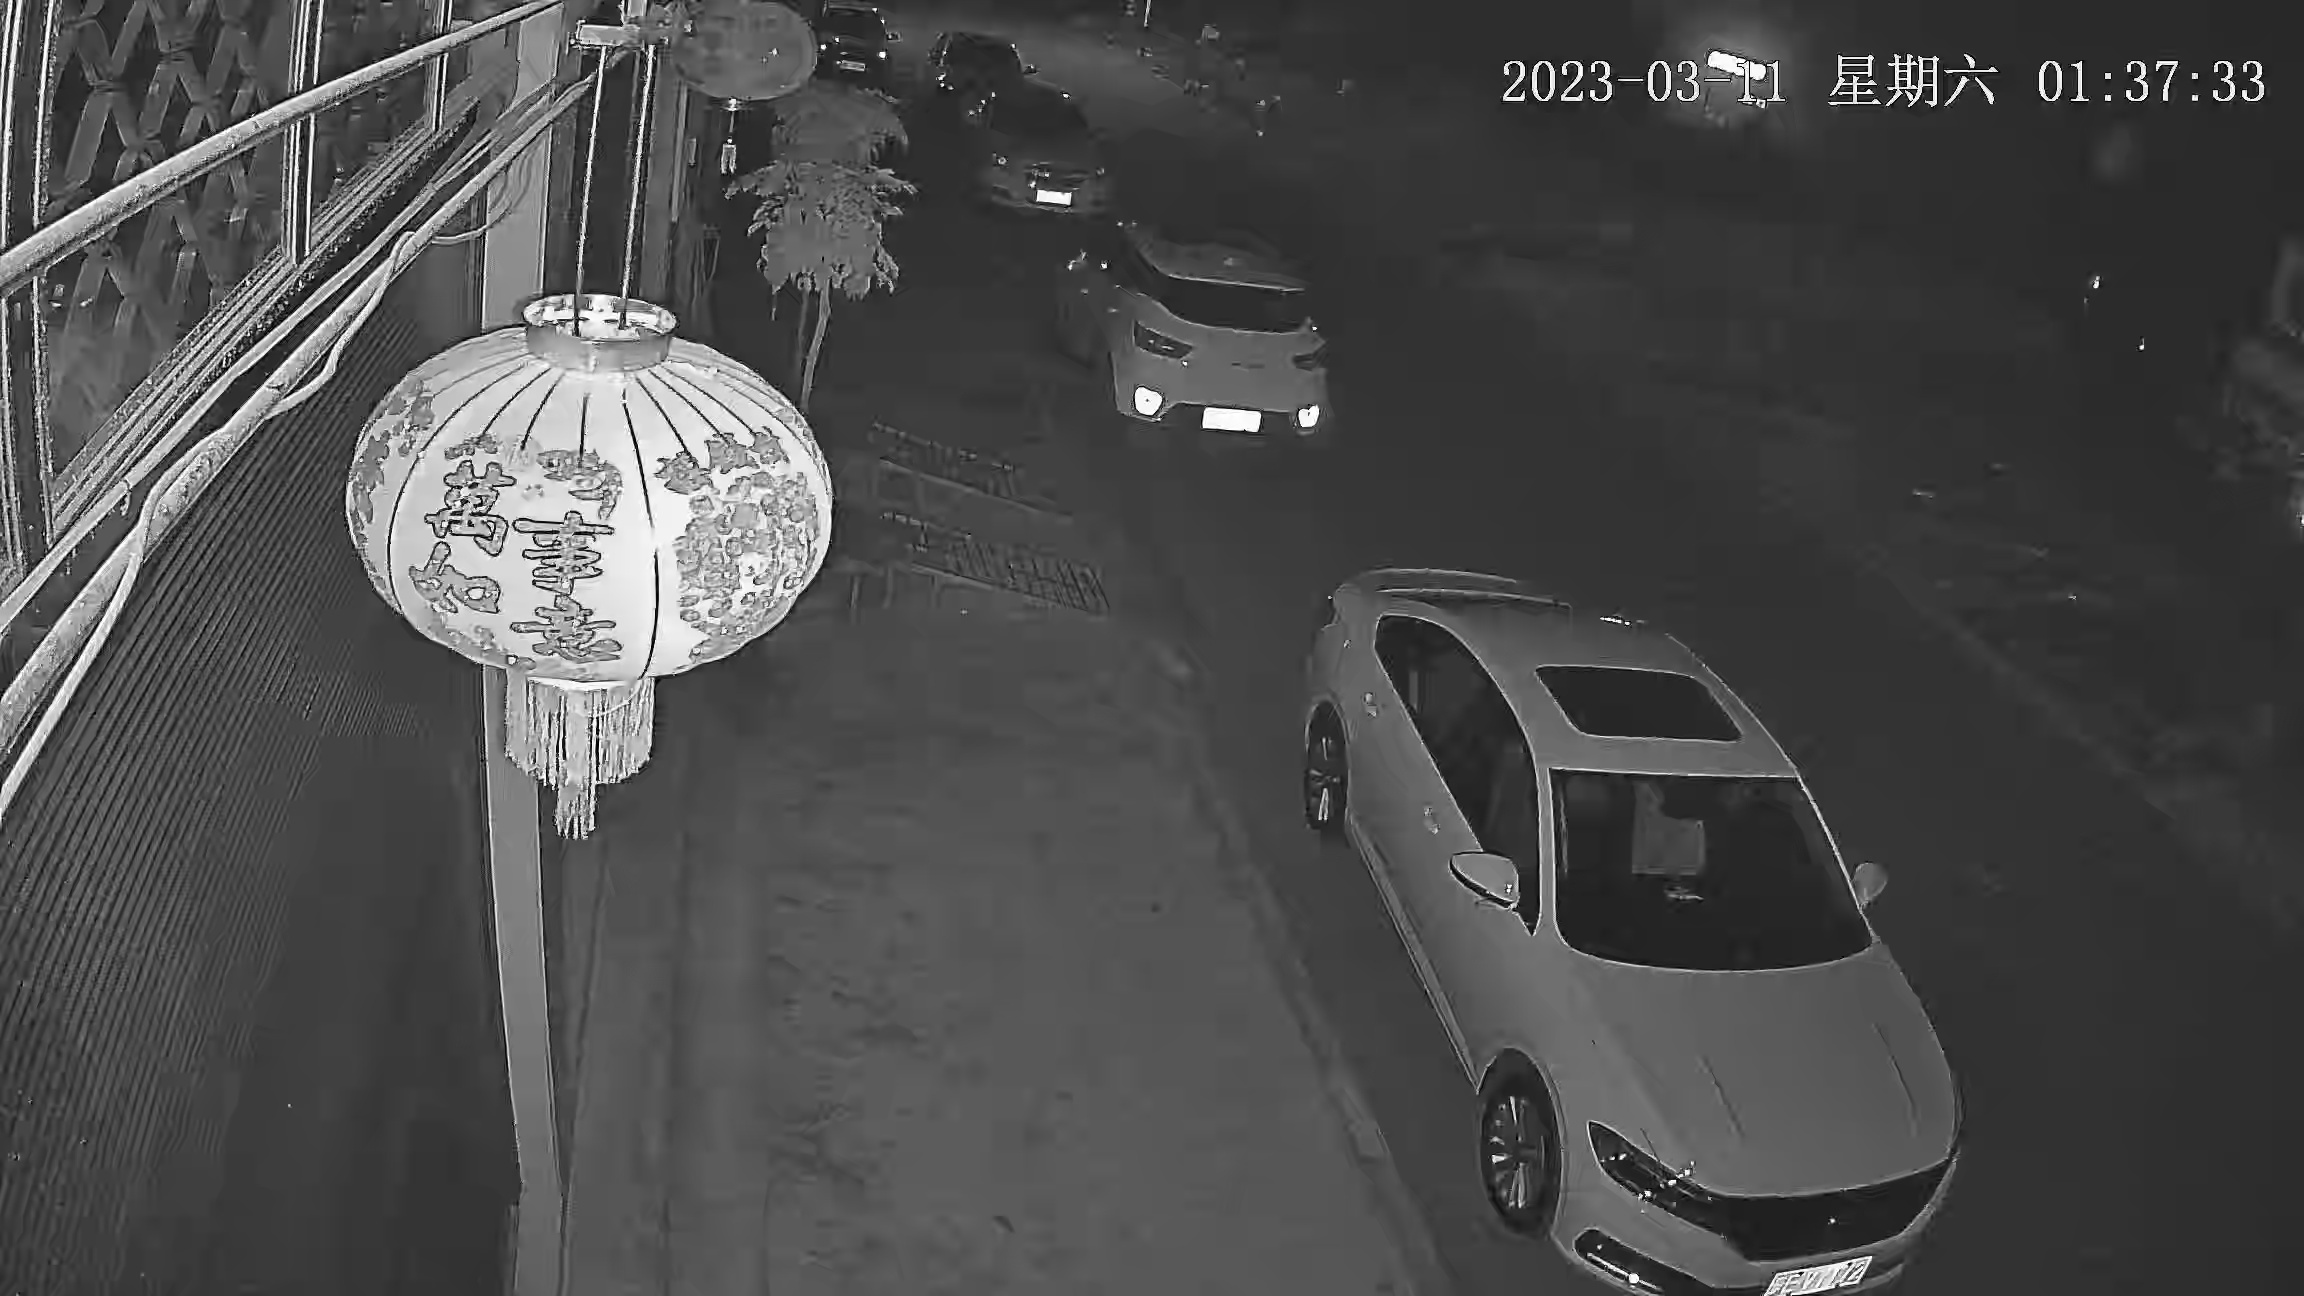sedan: (1280, 551, 1984, 1296), (961, 79, 1112, 222), (809, 3, 896, 89), (926, 25, 1030, 89)
suv: (1049, 214, 1339, 457)
